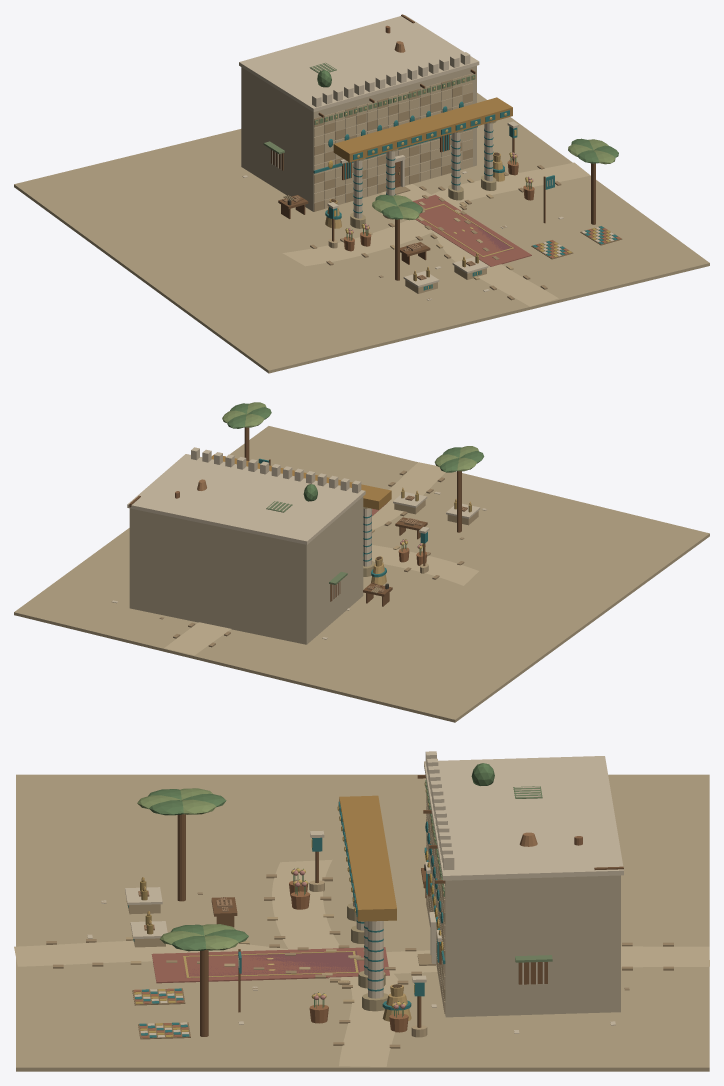
File: city-palace.glb
3 views of the same model, one above another, from view 1: azimuth 30°, elevation 25°; view 2: azimuth 150°, elevation 25°; view 3: azimuth 270°, elevation 25° (orthographic). The views are drawn at different scales.
Visible parts, largest first — view 1: city-palace; view 2: city-palace; view 3: city-palace.
Part boxes in pixels (x1,y1,x2,y2): city-palace: [14, 14, 709, 373]; city-palace: [14, 402, 709, 722]; city-palace: [14, 751, 709, 1071].
Size of the model in its own units: 32.04 by 8.47 by 32.1.
